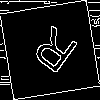R: (25, 25, 80, 83)
